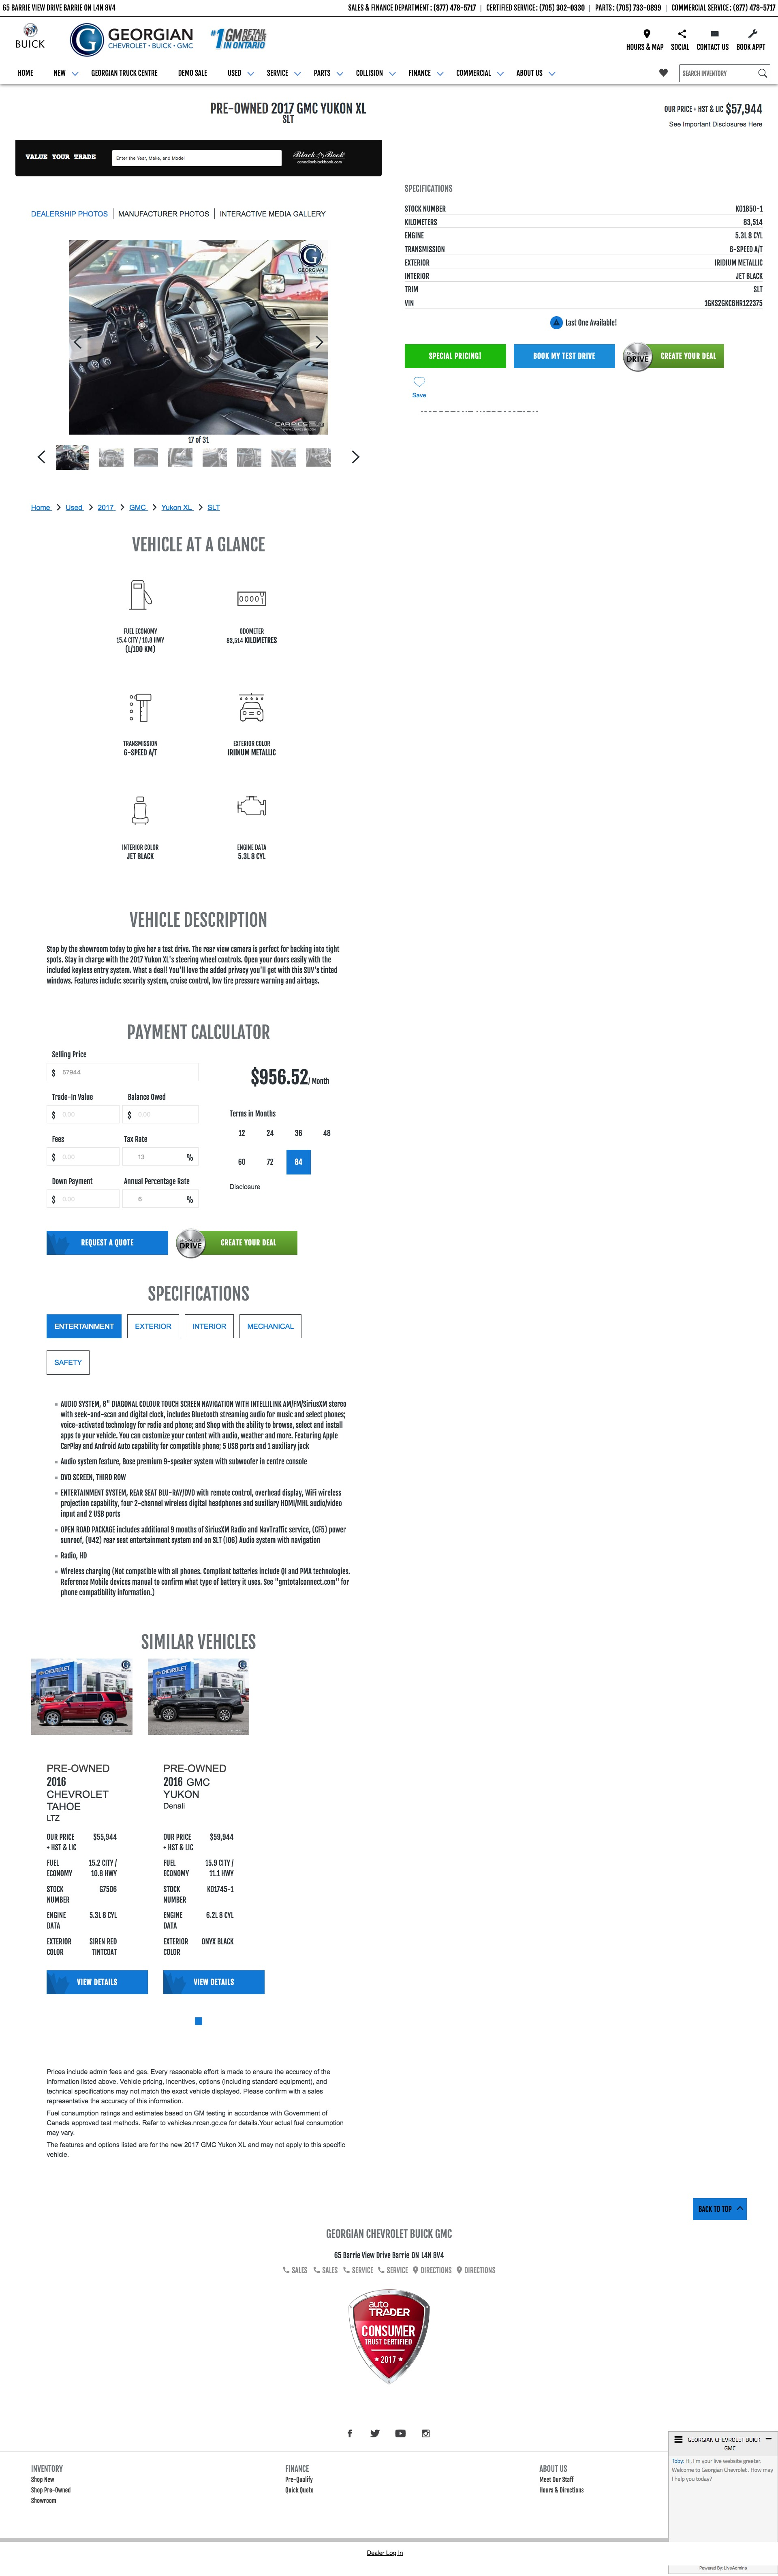car: (351, 450, 359, 465)
